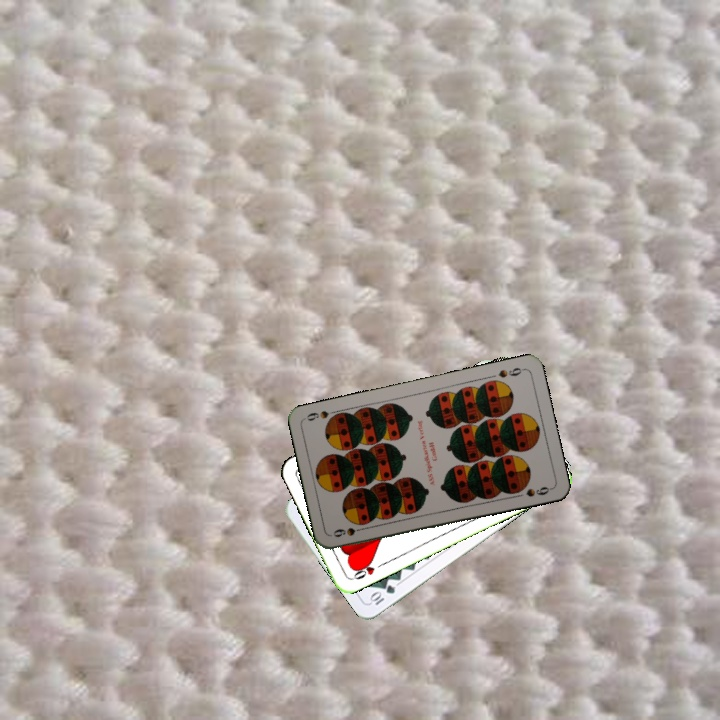G10: (366, 581, 398, 608)
HO: (348, 557, 386, 582)
S9: (329, 523, 369, 540), (494, 364, 527, 380)
